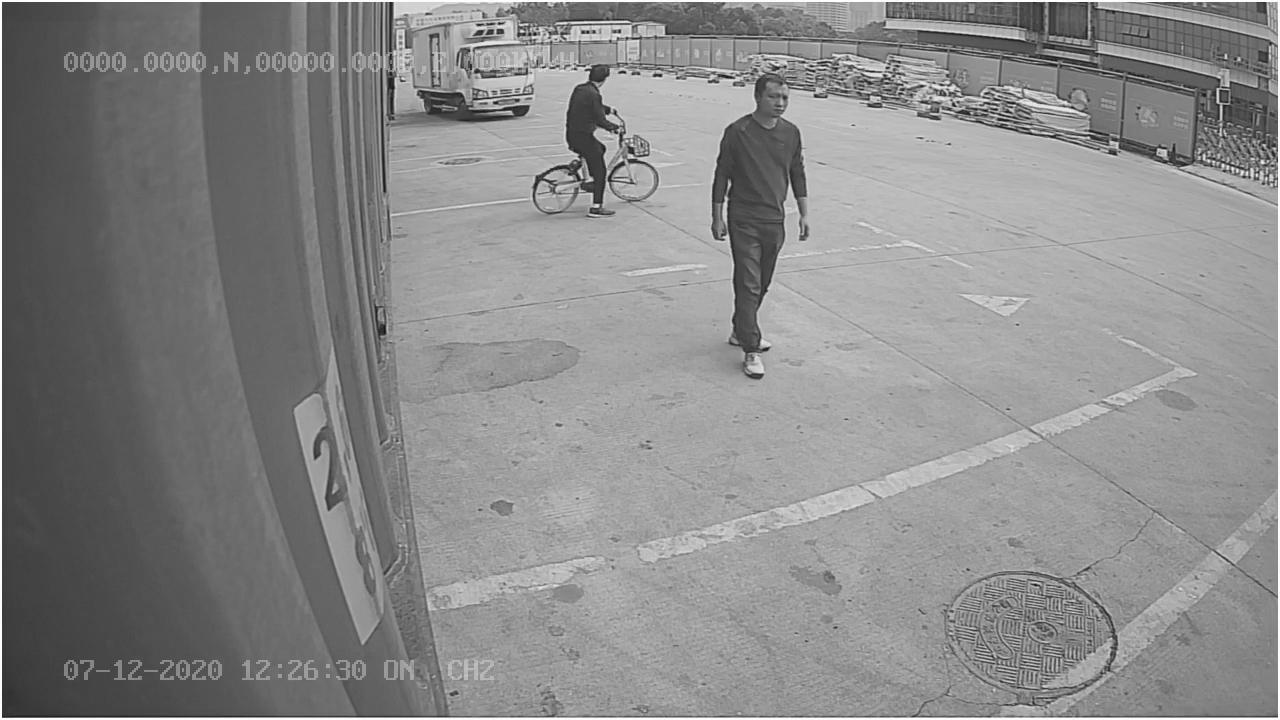person: (707, 69, 818, 384)
